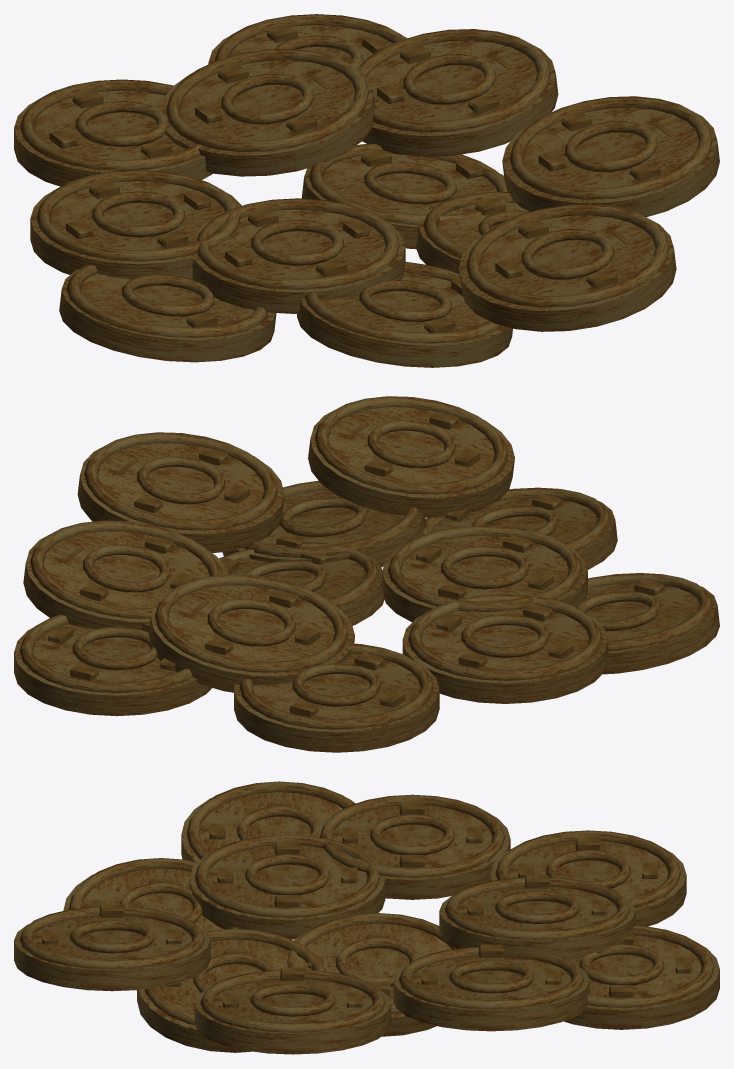
File: coins.glb
3 renders of one model, top to bottom at view 1: azimuth 30°, elevation 25°; view 2: azimuth 150°, elevation 25°; view 3: azimuth 270°, elevation 25°, orthographic. The views are drawn at different scales.
Visible parts, largest first — view 1: CoinPile; view 2: CoinPile; view 3: CoinPile.
Boxes of the visible parts, x1,y1,x2,y2 form: CoinPile: (14,14,719,367); CoinPile: (14,396,719,752); CoinPile: (14,781,719,1054).
Size of the model in its own units: 0.2796 by 0.0352 by 0.2945.
Materials: 1 (1 with a texture image).
